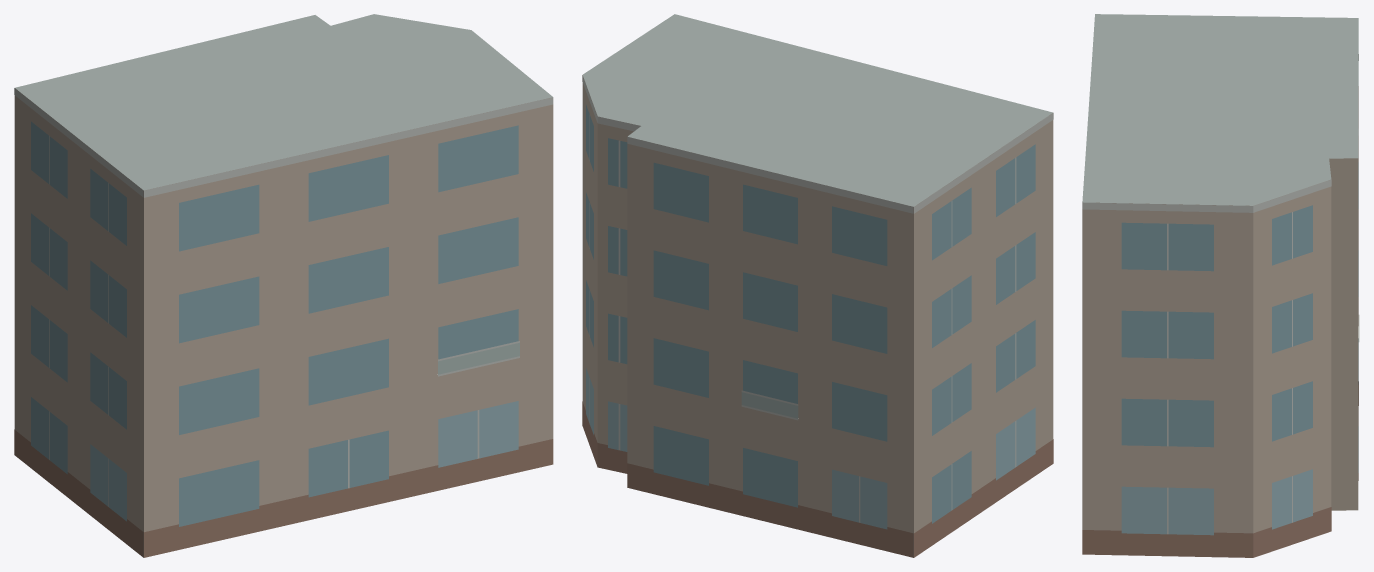
File: survey-upis-32659527.glb
The picture shows the model from 3 angles, left to right: view 1: azimuth 30°, elevation 25°; view 2: azimuth 150°, elevation 25°; view 3: azimuth 270°, elevation 25°; orthographic projection. The views are drawn at different scales.
Visible parts, largest first — view 1: survey-upis-32659527.tmp; view 2: survey-upis-32659527.tmp; view 3: survey-upis-32659527.tmp.
Part boxes in pixels (x1,y1,x2,y2): survey-upis-32659527.tmp: (14,14,553,557); survey-upis-32659527.tmp: (582,14,1053,557); survey-upis-32659527.tmp: (1082,14,1359,557).
Bounding box in the file's own units: 14.27 × 12.2 × 8.72.
